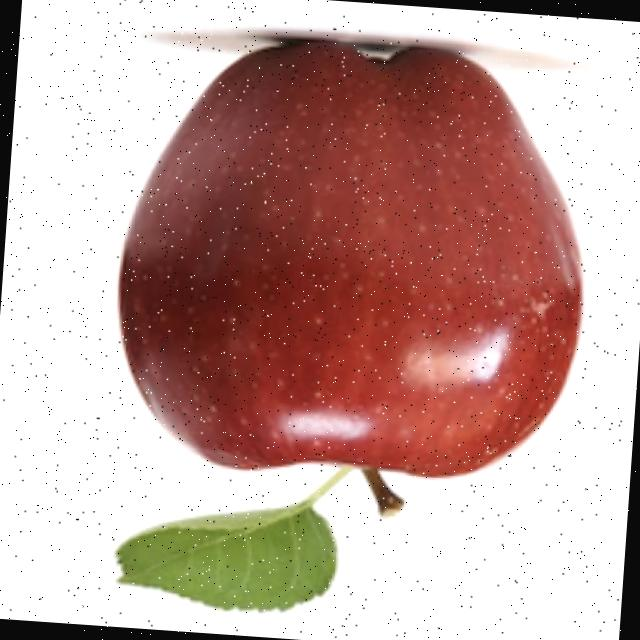Ripe: (97, 16, 608, 503)
